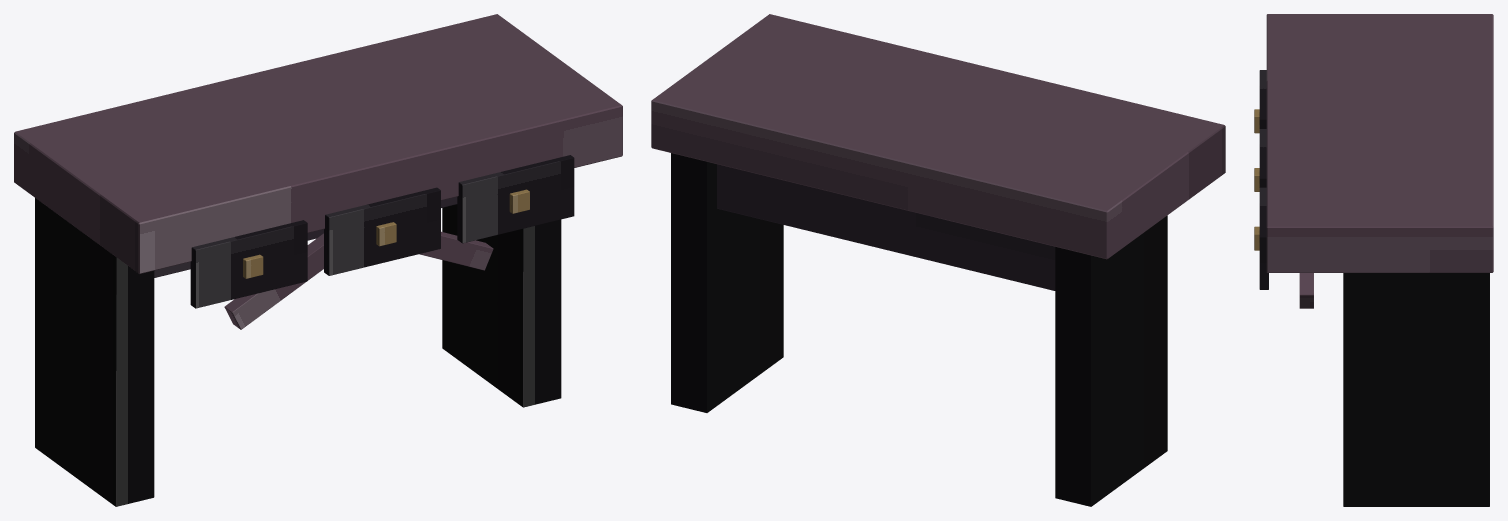
File: gothic_writing_desk.glb
3 views of the same model, side by side, from view 1: azimuth 30°, elevation 25°; view 2: azimuth 150°, elevation 25°; view 3: azimuth 270°, elevation 25° (orthographic). The views are drawn at different scales.
Visible parts, largest first — view 1: DeskTop, DeskLeg-0.58, DeskLeg0.58, DeskDrawer-0.38, DeskDrawer0.38, DeskDrawer0.0, DeskApronArchLeft, DeskApronArchRight; view 2: DeskTop, DeskLeg-0.58, DeskLeg0.58, DeskApron; view 3: DeskTop, DeskLeg0.58, DeskDrawer0.38, DeskApronArchRight, DeskDrawer0.0, DeskDrawer-0.38.
Part boxes in pixels (box(x1,y1,x2,y2)): DeskTop: box(14, 14, 622, 273); DeskLeg-0.58: box(35, 198, 154, 506); DeskLeg0.58: box(442, 204, 561, 407); DeskDrawer-0.38: box(190, 220, 307, 308); DeskDrawer0.38: box(457, 155, 574, 243); DeskDrawer0.0: box(324, 187, 440, 275); DeskApronArchLeft: box(224, 233, 323, 329); DeskApronArchRight: box(419, 231, 493, 270); DeskTop: box(651, 14, 1225, 259); DeskLeg-0.58: box(1055, 215, 1167, 506); DeskLeg0.58: box(671, 153, 783, 412); DeskApron: box(717, 164, 1055, 290); DeskTop: box(1266, 14, 1493, 272); DeskLeg0.58: box(1343, 273, 1489, 506); DeskDrawer0.38: box(1259, 187, 1268, 289); DeskApronArchRight: box(1299, 273, 1313, 308); DeskDrawer0.0: box(1259, 129, 1266, 187); DeskDrawer-0.38: box(1259, 70, 1266, 128).
Bounding box in the file's own units: 1.38 × 0.87 × 0.653.
1 material, 1 textured.
